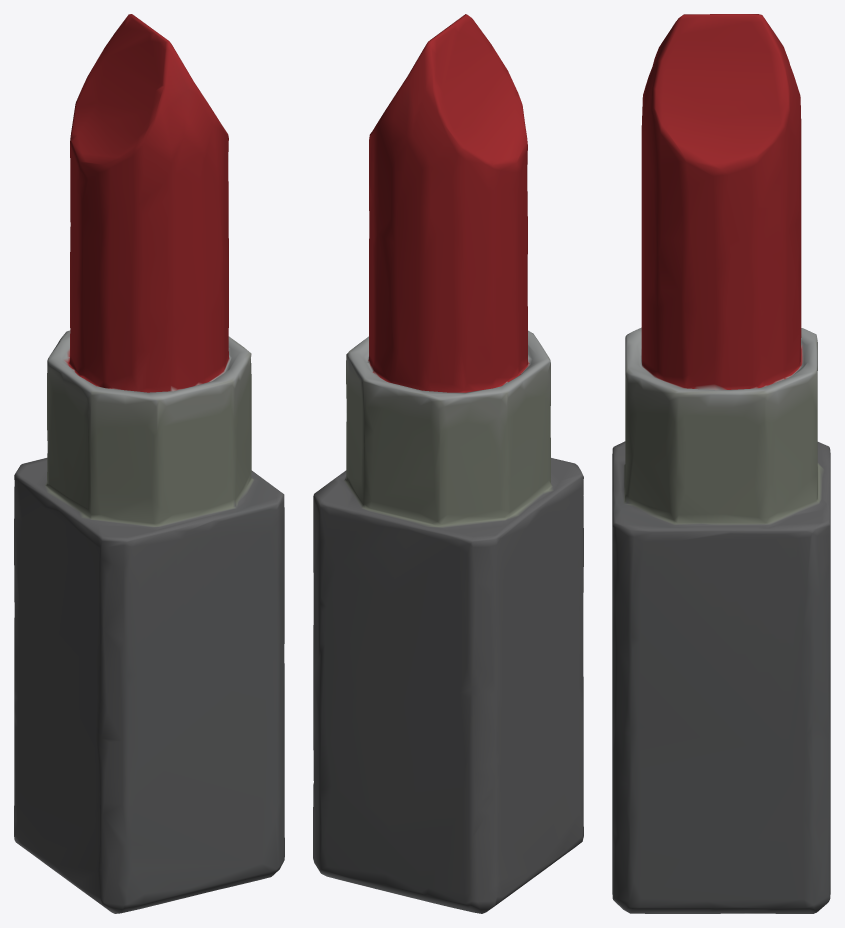
The model's file is gen3d-lipstick-lod0.glb.
The picture shows the model from 3 angles, left to right: view 1: azimuth 30°, elevation 25°; view 2: azimuth 150°, elevation 25°; view 3: azimuth 270°, elevation 25°; orthographic projection. The views are drawn at different scales.
Visible parts, largest first — view 1: part_0; view 2: part_0; view 3: part_0.
Part boxes in pixels (left/top/right/bottom): part_0: left=14, top=14, right=284, bottom=913; part_0: left=313, top=14, right=583, bottom=913; part_0: left=612, top=14, right=830, bottom=913.
Bounding box in the file's own units: 0.2301 × 1 × 0.2301.
